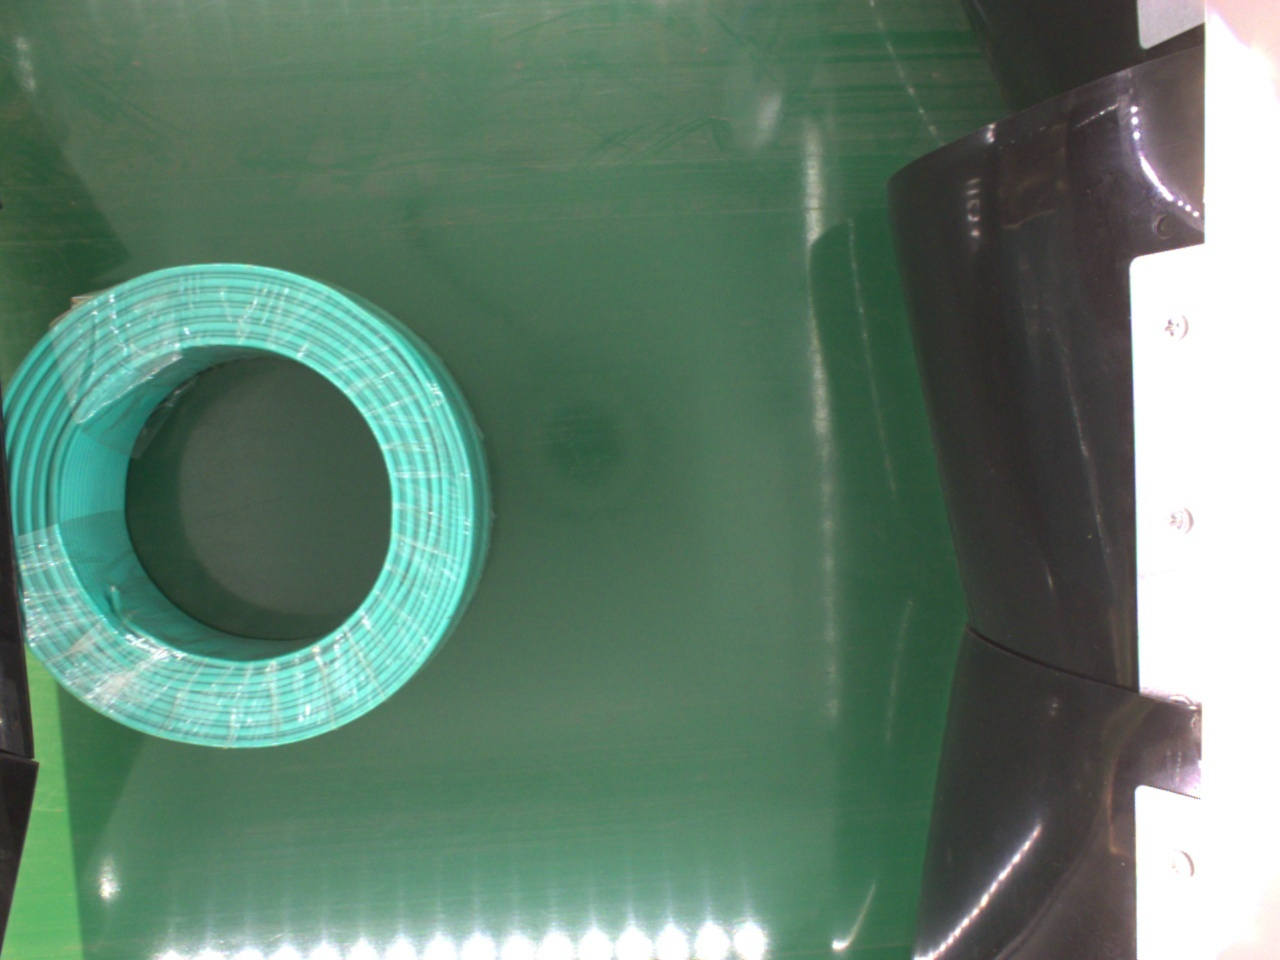green: (21, 263, 489, 751)
